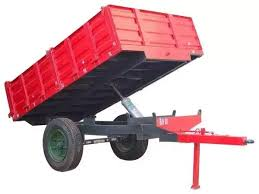wheel: (42, 117, 79, 171)
